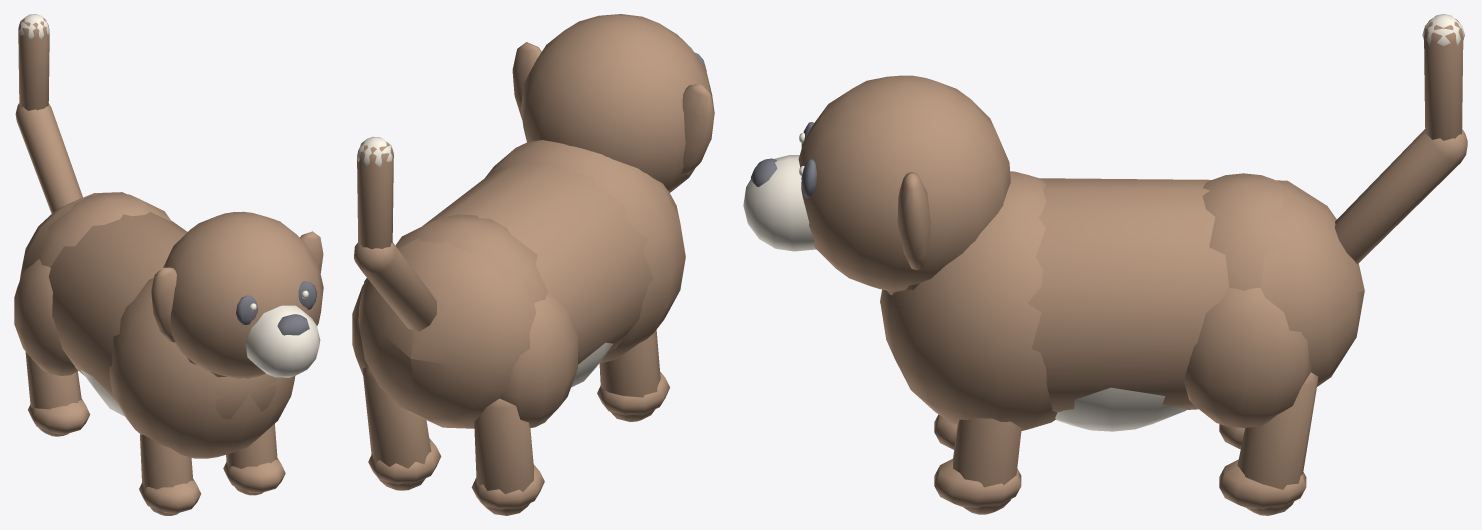
File: puppy-standing.glb
3 views of the same model, side by side, from view 1: azimuth 30°, elevation 25°; view 2: azimuth 150°, elevation 25°; view 3: azimuth 270°, elevation 25° (orthographic). The views are drawn at different scales.
Parts seen in each view (by area): view 1: dog-puppy; view 2: dog-puppy; view 3: dog-puppy.
Part boxes in pixels (bbox=[...]): dog-puppy: bbox=[14, 14, 323, 515]; dog-puppy: bbox=[352, 14, 714, 515]; dog-puppy: bbox=[743, 14, 1467, 515].
Size of the model in its own units: 0.2178 by 0.4266 by 0.5975.
